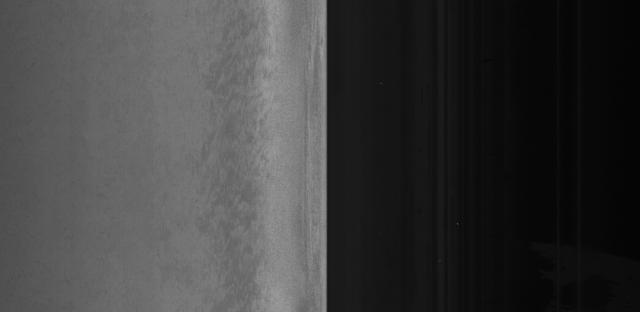silk_spot: (212, 78, 282, 189)
